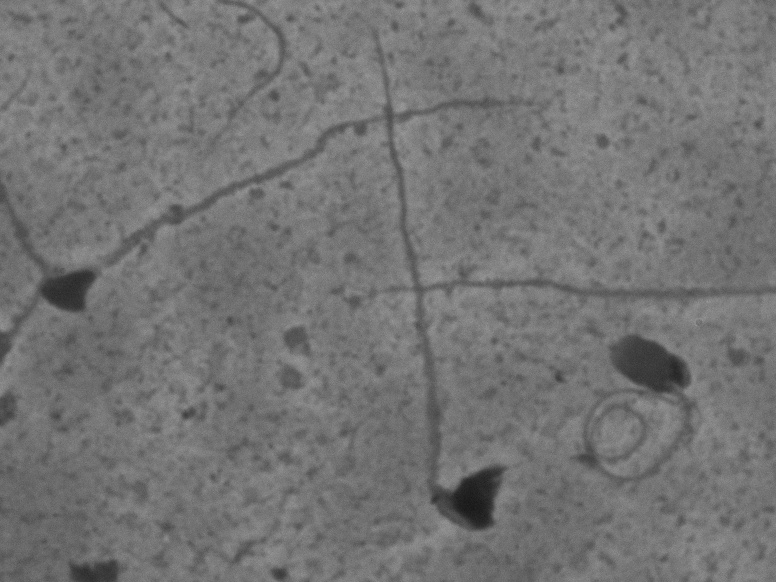Abnormal: (357, 61, 544, 566), (23, 149, 271, 344), (568, 317, 716, 512)
